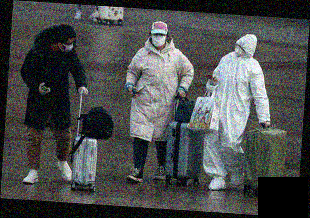with_mask: (150, 32, 166, 48), (60, 39, 74, 55), (233, 43, 246, 57)
